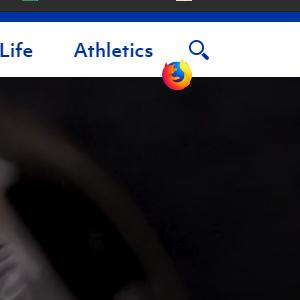firefox: (161, 58, 192, 91)
